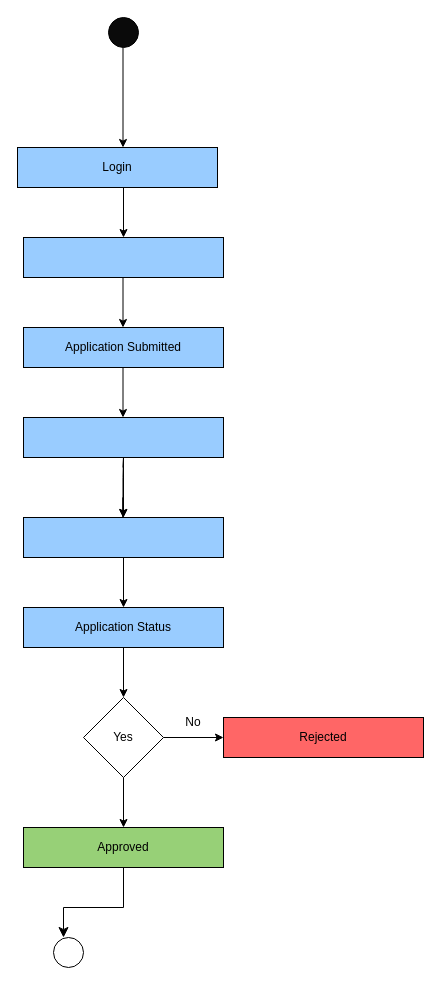
The diagram is 441 pixels wide and 985 high, and some of its shapes have lost their labels. Here are the shapes that lost their labels. From the top down, the centre of each, then its label:
At pixel 123 257: "Application Form".
At pixel 123 437: "Payment".
At pixel 123 537: "User Review".
